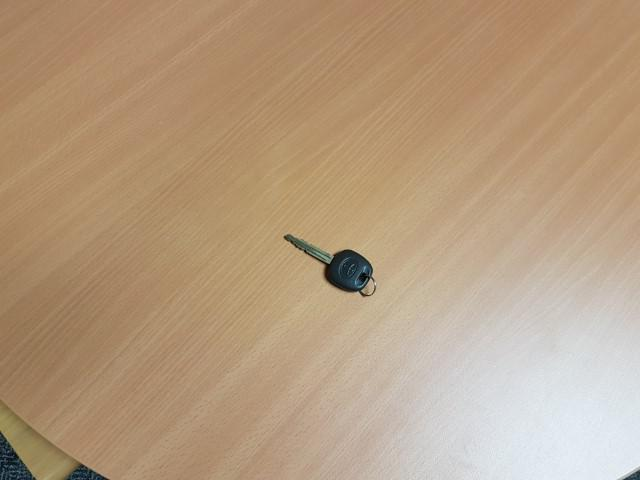key: (283, 233, 372, 291)
